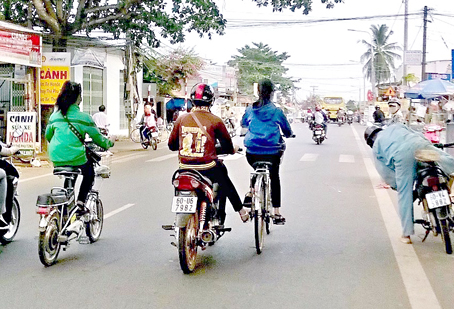bien_so: (425, 189, 452, 211), (171, 194, 198, 213)
